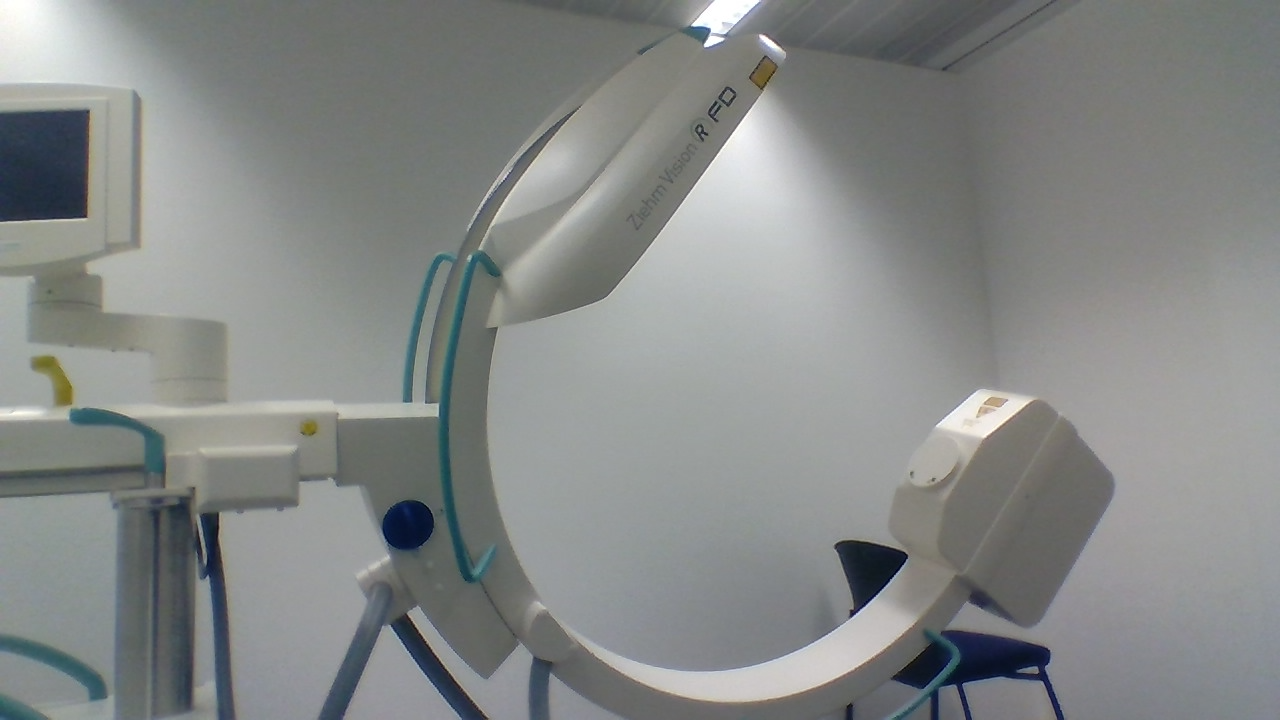carmDOWN: (886, 387, 1061, 568)
carmLOCK: (380, 497, 435, 549)
carmUP: (461, 22, 789, 332)
